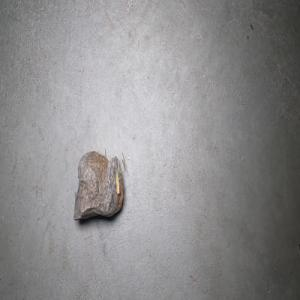Rock: (73, 147, 126, 220)
